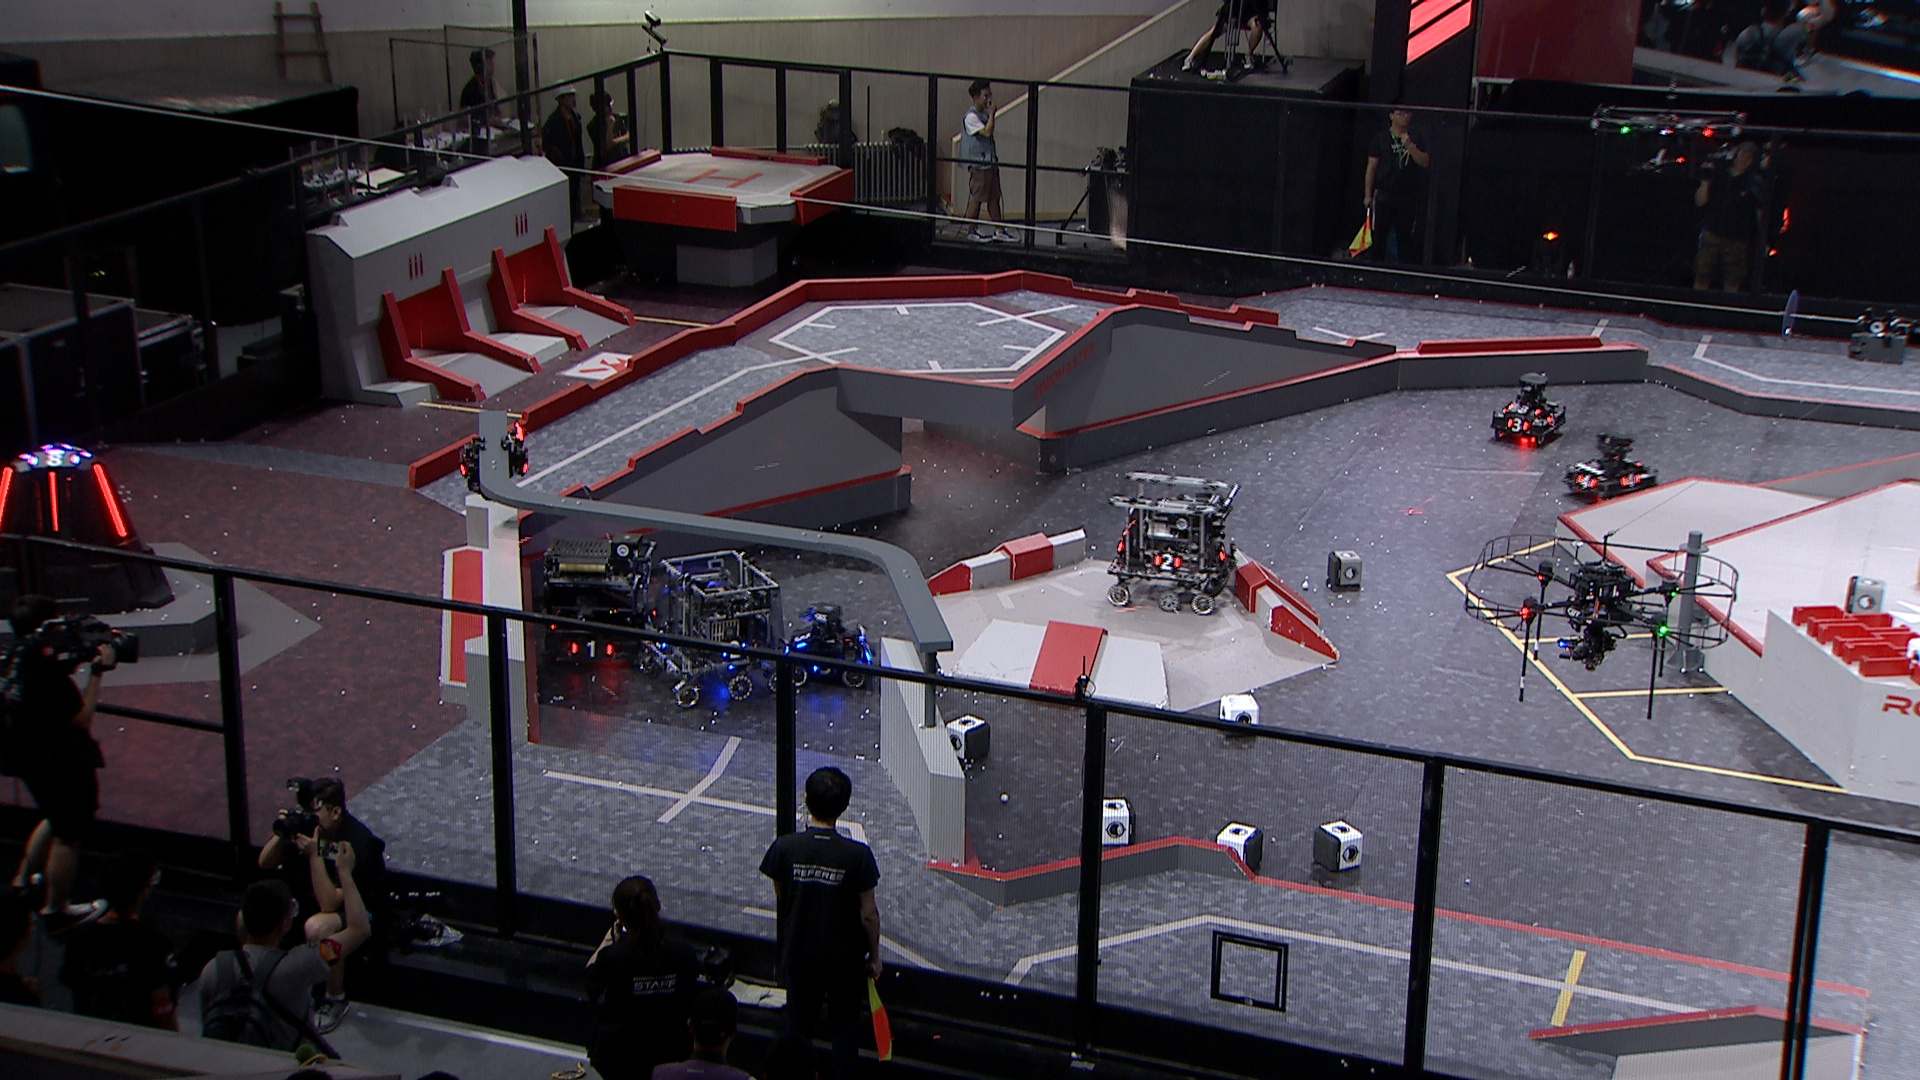armor: (90, 463, 128, 541), (49, 467, 61, 534), (570, 640, 613, 657), (717, 640, 745, 659), (1153, 553, 1179, 570), (1506, 415, 1527, 433), (861, 638, 877, 659), (808, 659, 833, 673), (1576, 472, 1594, 489), (1622, 473, 1642, 489), (1510, 404, 1538, 414), (1621, 458, 1643, 469), (794, 626, 806, 646), (1544, 407, 1557, 425), (1218, 543, 1230, 562)
car: (637, 549, 787, 711), (1106, 469, 1242, 617), (527, 534, 655, 669), (773, 603, 880, 688), (1561, 433, 1662, 504), (1489, 372, 1567, 448)
ignore: (29, 447, 76, 467)
watcher: (456, 419, 534, 504)
